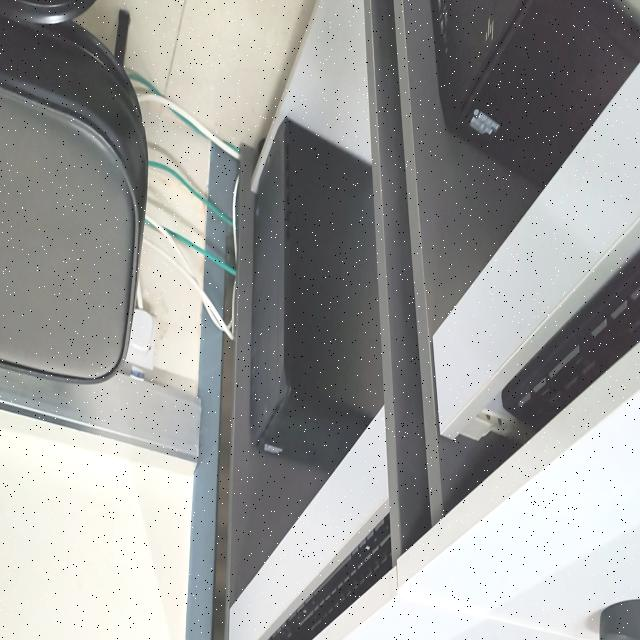Chair: (0, 0, 148, 384)
Cpu: (250, 118, 383, 473), (431, 0, 640, 185)
Keyboard: (502, 249, 640, 431), (268, 513, 392, 640)
Mouse: (600, 600, 640, 640)
